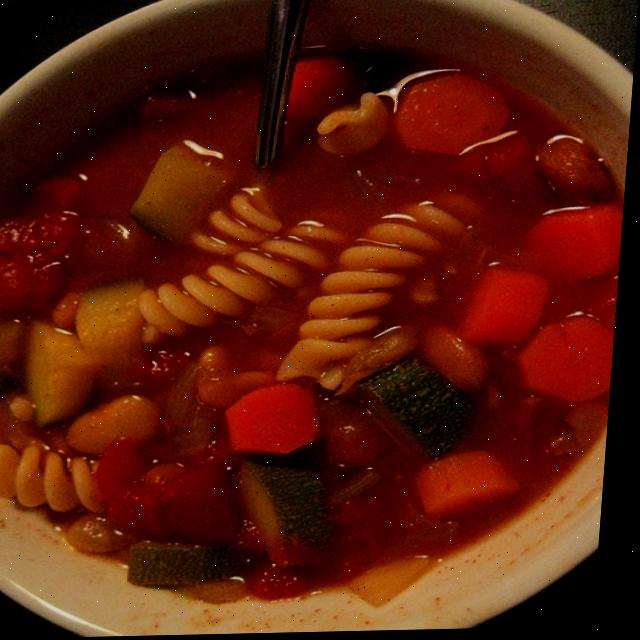汤锅炖物: (0, 20, 624, 618)
